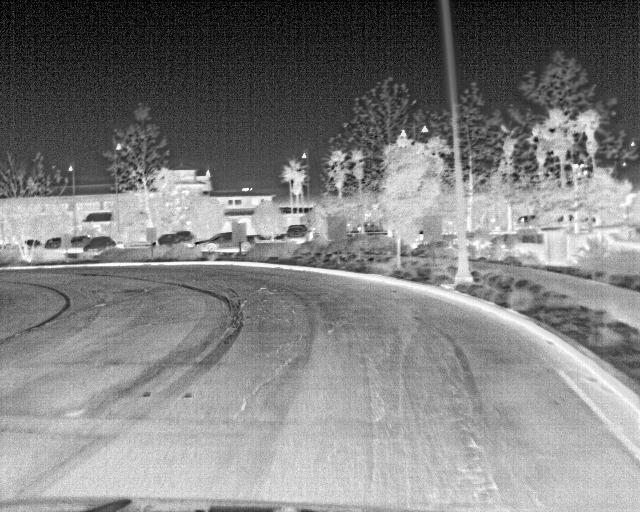car: (193, 234, 232, 251), (285, 224, 310, 244), (83, 236, 114, 252), (68, 234, 91, 249), (173, 230, 194, 246), (42, 235, 62, 251), (240, 235, 256, 252)
